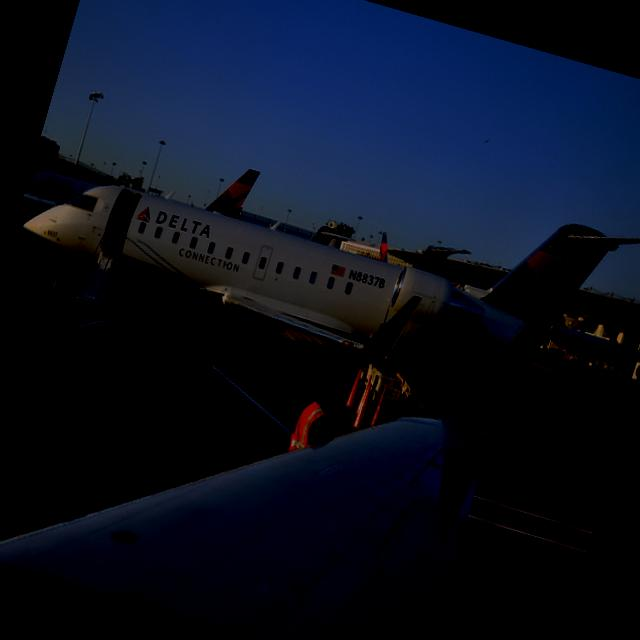Vehicle: (352, 344, 445, 426)
